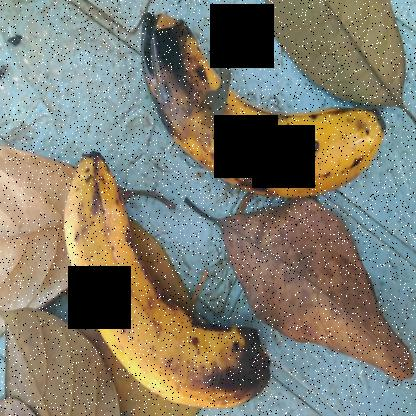overripe: (52, 146, 188, 393), (212, 86, 394, 212)
rotten: (127, 1, 240, 157), (165, 300, 275, 416)
